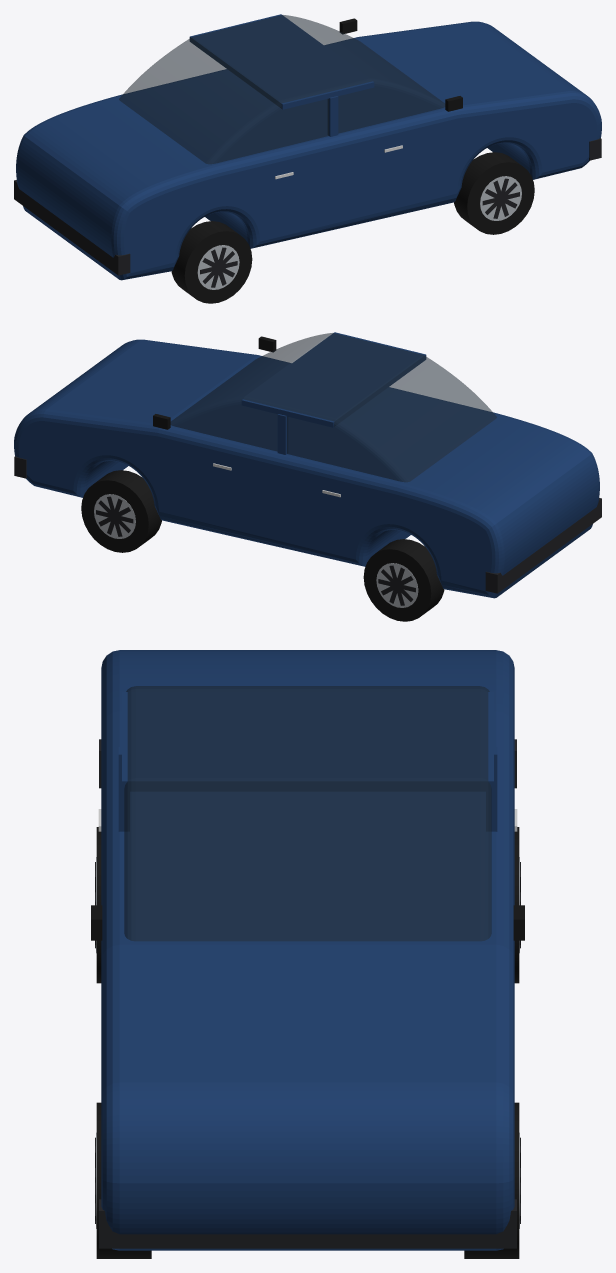
The model's file is sedan.glb.
3 views of the same model, one above another, from view 1: azimuth 30°, elevation 25°; view 2: azimuth 150°, elevation 25°; view 3: azimuth 270°, elevation 25° (orthographic). The views are drawn at different scales.
Visible parts, largest first — view 1: vehicle_sedan; view 2: vehicle_sedan; view 3: vehicle_sedan.
Part boxes in pixels (<box>): vehicle_sedan: <box>14,14,601,303</box>; vehicle_sedan: <box>14,332,601,621</box>; vehicle_sedan: <box>91,650,524,1258</box>.
Size of the model in its own units: 4.92 by 1.71 by 1.89.
